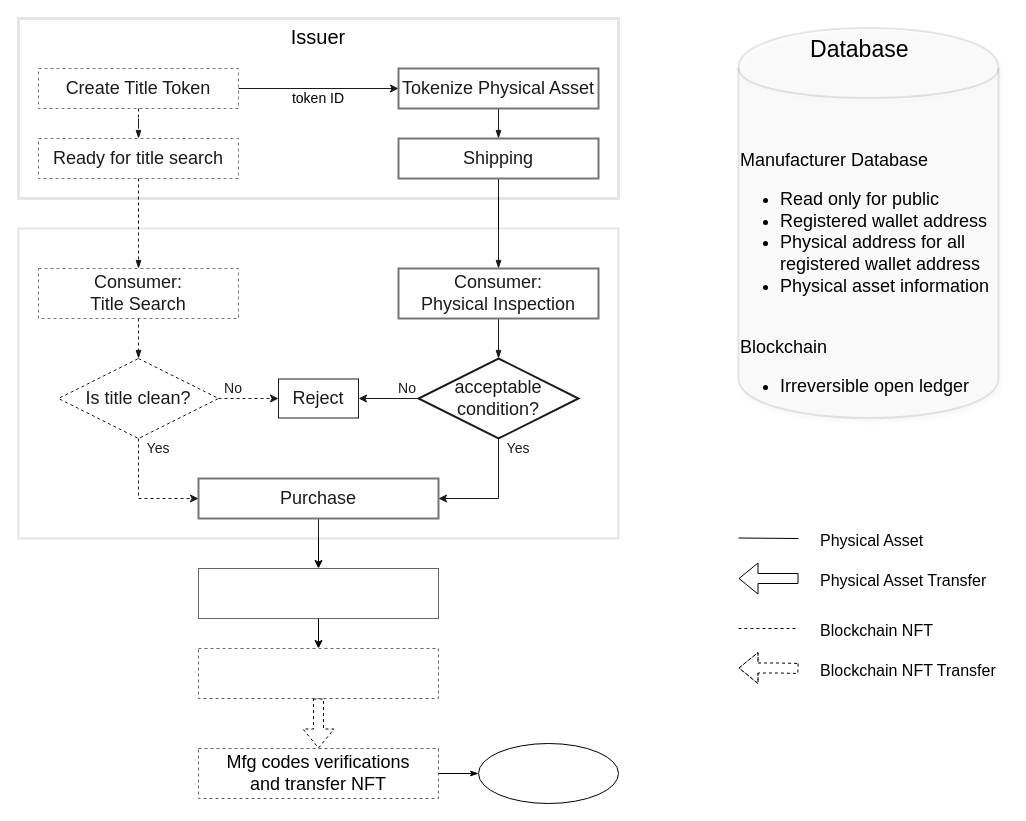
This 1026x821 diagram has some shape labels left out. Here are the shapes that lost their labels. From the top down, the centre of each, then its label:
At point 318,383: "Point-of-Sale".
At point 318,593: "Discover Registration Code hidden on physical asset".
At point 318,673: "Register product".
At point 548,773: "Transcation Completed".
